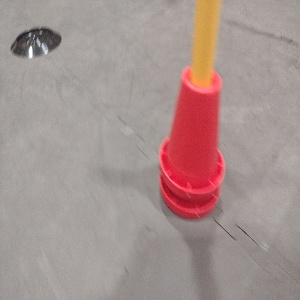Red_2: (156, 61, 229, 222)
